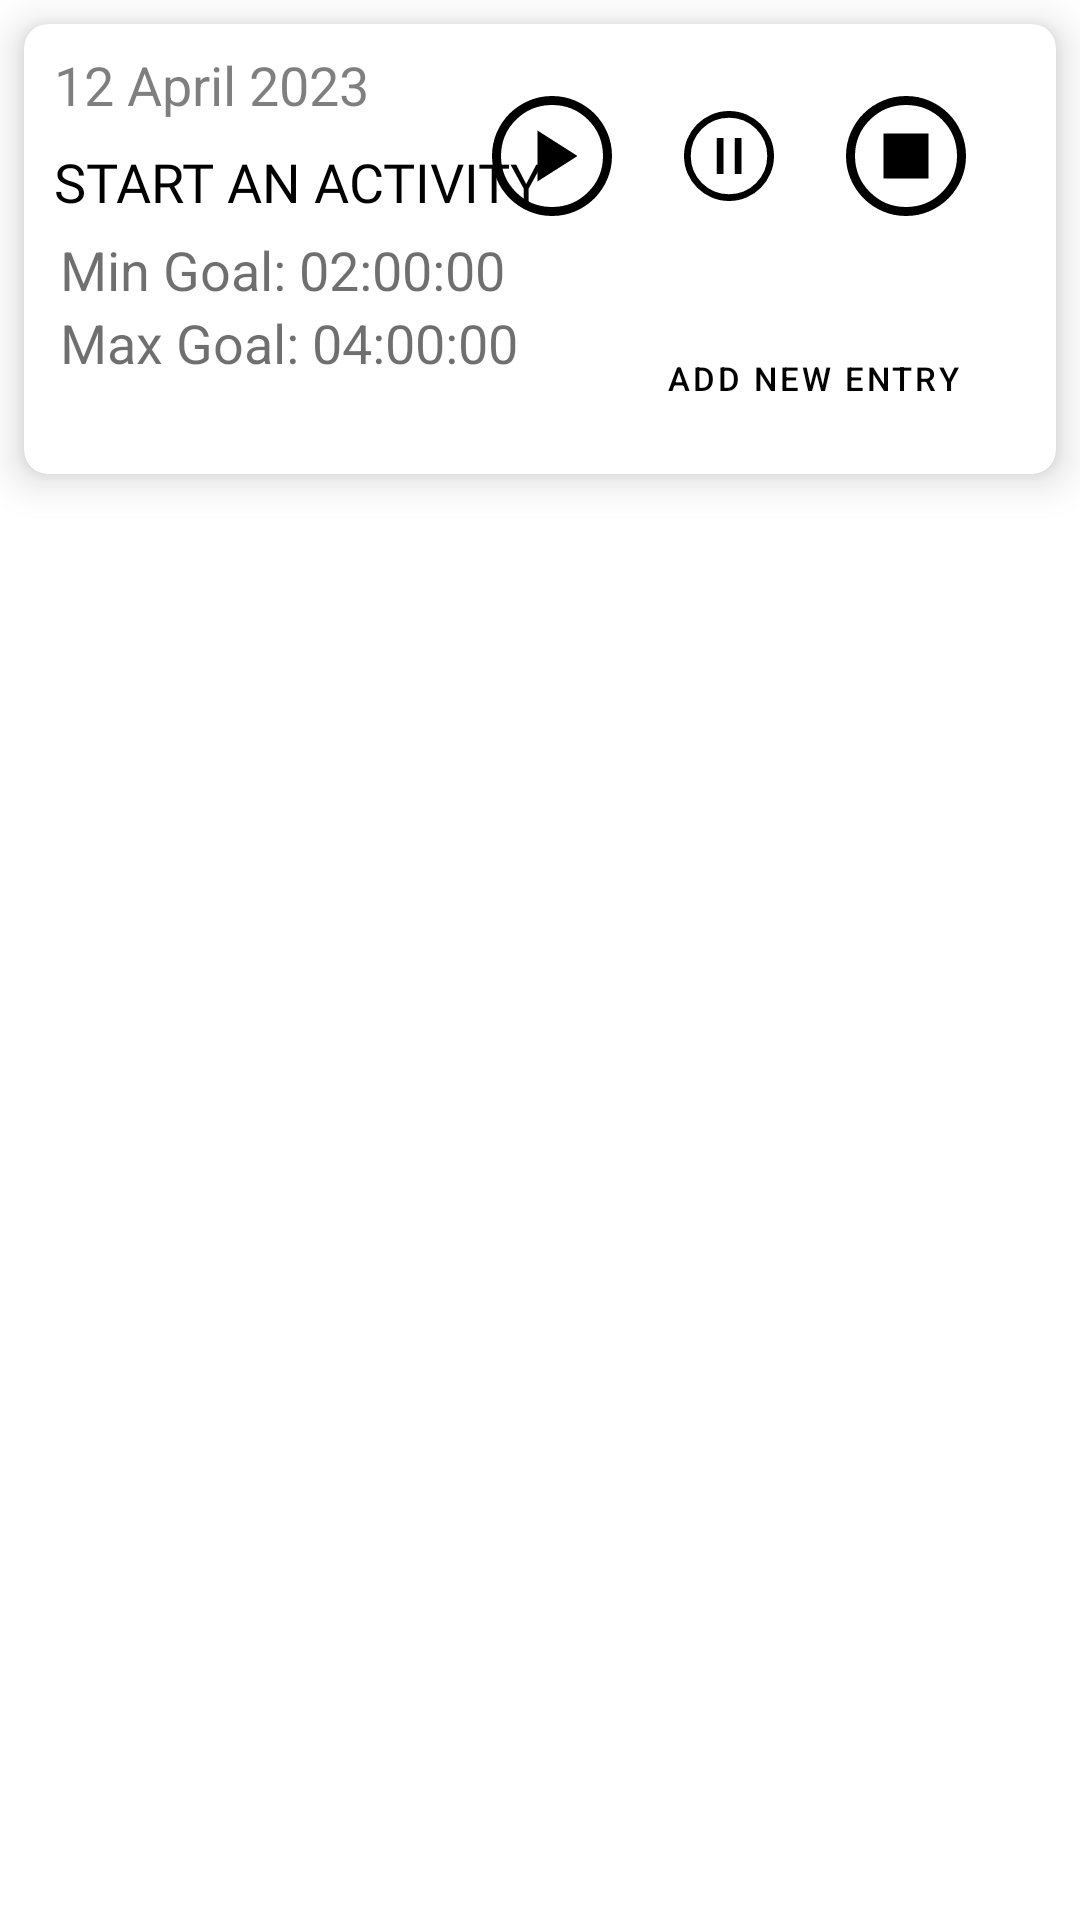

Icon click points for this 1080x1920 phone screenshot, format (x,y):
pause circle: (729,156)
stop circle: (906,156)
